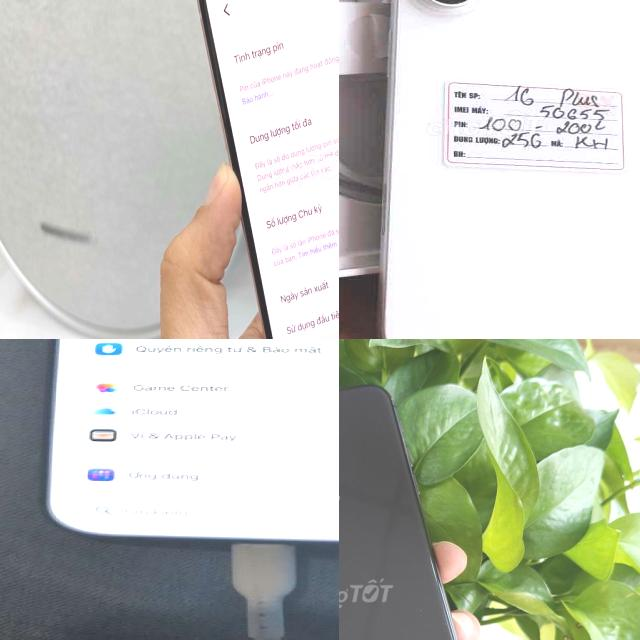gen_15: (189, 0, 339, 339)
gen_16: (366, 0, 640, 339), (48, 339, 339, 544)
gen_7_8: (339, 376, 489, 640)
scratch: (418, 602, 452, 640)
